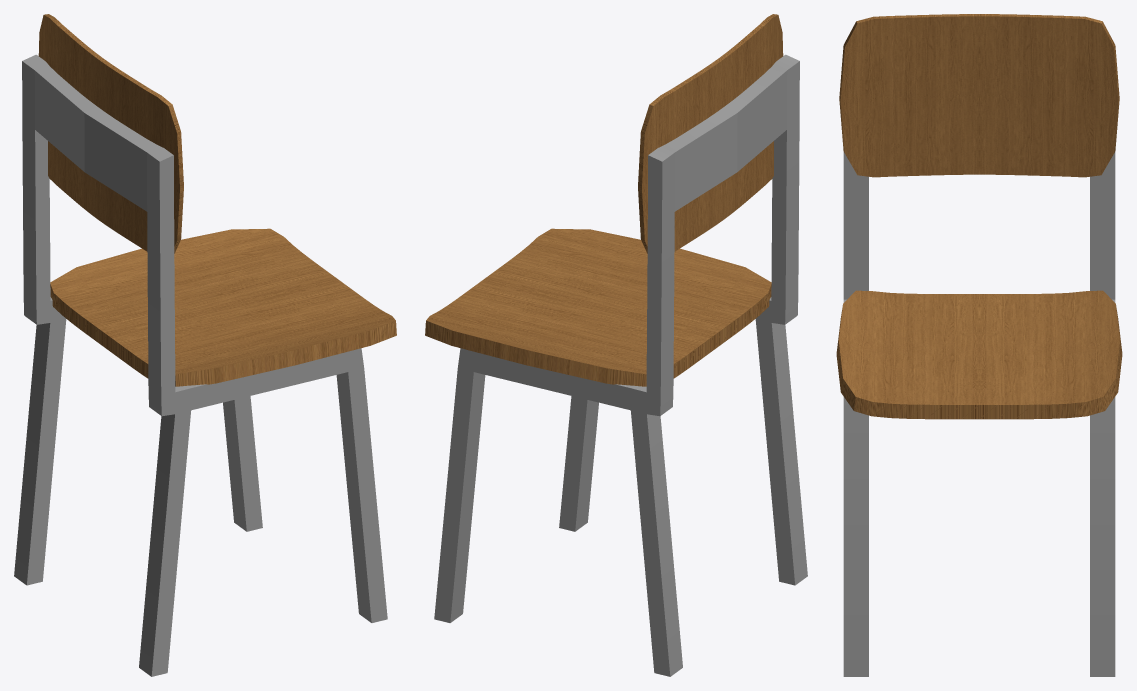
The model's file is SillaSola_MesaUno.obj.
The picture shows the model from 3 angles, left to right: view 1: azimuth 30°, elevation 25°; view 2: azimuth 150°, elevation 25°; view 3: azimuth 270°, elevation 25°; orthographic projection.
Visible parts, largest first — view 1: polySurface29; view 2: polySurface29; view 3: polySurface29.
Boxes of the visible parts, x1,y1,x2,y2 form: polySurface29: (14,14,396,676); polySurface29: (425,14,807,676); polySurface29: (836,14,1122,676).
Bounding box in the file's own units: 0.8412 × 1.78 × 0.8272.
2 materials, 2 textured.
